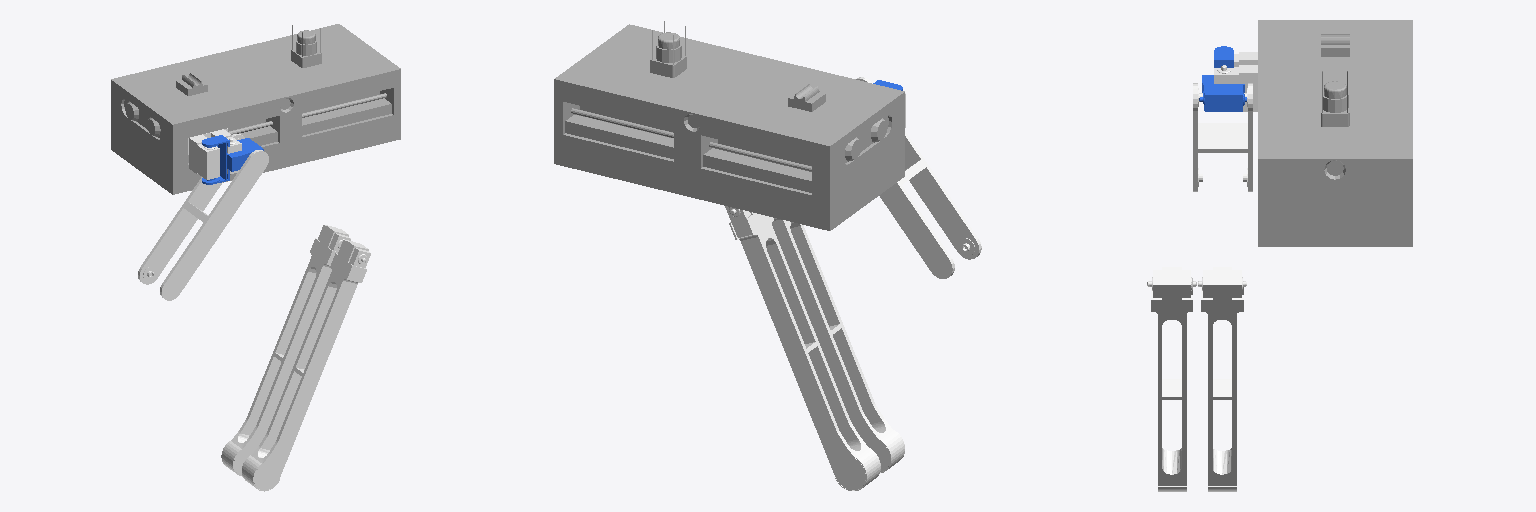
URDF robot description (dog2):
<?xml version="1.0" ?><!-- =================================================================================== --><!-- |    This document was autogenerated by xacro from src/dog2_description/urdf/dog2.urdf.xacro | --><!-- |    EDITING THIS FILE BY HAND IS NOT RECOMMENDED                                 | --><!-- =================================================================================== --><!--
  Dog2 Robot Description (Xacro Source)
  
  This file defines the Dog2 quadruped robot with parameterized joint limits.
  All configuration is in this single file for simplicity.
  
  JOINT LIMITS (Current: continuous, will be converted to revolute):
  - Hip joints (j11, j21, j31, j41): Currently continuous (360° unlimited)
    * Target: ±150° (±2.618 rad) for obstacle crossing
    * 0°: Leg vertical (default stance)
    * +90°: Leg forward (climbing phase)
    * -90°: Leg backward (retraction phase)
    * ±150°: Extreme folding for morphing
  
  - Knee joints (j111, j211, j311, j411): Currently continuous (360° unlimited)
    * Target: ±160° (±2.8 rad) for bidirectional folding
    * 0°: Leg straight (singularity point during morphing)
    * -160°: Elbow configuration (shin behind thigh)
    * +160°: Knee configuration (shin in front of thigh)
    * WARNING: 0° is a singularity - controller must handle carefully
  
  MODIFYING LIMITS:
  1. Edit the properties section at the top of this file
  2. Run: colcon build packages-select dog2_description
  3. Verify: python3 scripts validate_urdf_limits.py urdf/dog2.urdf
  
  OBSTACLE CROSSING PHASES:
  - Phase 1 (Approach): Hip 0° to +45°, knee -90° (elbow)
  - Phase 2 (Climb): Hip +45° to +90°, knee -90° to 0° (straightening)
  - Phase 3 (Morph): Hip +90°, knee 0° to +90° (elbow → knee transition)
  - Phase 4 (Descend): Hip +90° to 0°, knee +90° (knee configuration)
  
  Generated from: dog2.urdf (backup: dog2.urdf.backup_xacro_migration)
  Migration Date: 2026-01-26
--><robot name="dog2"><!-- ============================================ --><!-- SECTION 1: PROPERTY DEFINITIONS              --><!-- ============================================ --><!-- ============================================ --><!-- INERTIA PROPERTIES                           --><!-- ============================================ --><link name="world"/><joint name="world_joint" type="fixed"><parent link="world"/><child link="base_link"/><origin rpy="0 0 0" xyz="0 0 0"/></joint><link name="base_link"><inertial><origin rpy="1.5708 0 0" xyz="1.2272 -0.7470 0.2649"/><mass value="6.0"/><!-- 调整惯性值：按质量比例缩放 (缩放因子 0.306) --><inertia ixx="0.0153" ixy="0.00011" ixz="0" iyy="0.052" iyz="0" izz="0.044"/></inertial><visual><origin rpy="0 0 0" xyz="0 0 0"/><geometry><mesh filename="package://dog2_description/meshes/base_link.STL"/></geometry><material name=""><color rgba="0.752941176470588 0.752941176470588 0.752941176470588 1"/></material></visual><collision><origin rpy="0 0 0" xyz="0 0 0"/><geometry><mesh filename="package://dog2_description/meshes/base_link.STL"/></geometry></collision></link><!-- ============================================ --><!-- SECTION 2: LEG MACRO DEFINITION              --><!-- ============================================ --><!-- ============================================ --><!-- SECTION 3: LEG INSTANTIATIONS                --><!-- ============================================ --><link name="l1"><inertial><origin rpy="0 0 0" xyz="-0.0159999123716776 0.000737036465389251 0.0261570925915838"/><mass value="0.3"/><inertia ixx="0.000107100908138004" ixy="0" ixz="0" iyy="8.38648309010005E-05" iyz="0" izz="7.86994452918461E-05"/></inertial><visual><origin rpy="0 0 0" xyz="0 0 0"/><geometry><mesh filename="package://dog2_description/meshes/l1.STL"/></geometry><material name=""><color rgba="1 1 1 1"/></material></visual><collision><origin rpy="0 0 0" xyz="0 0 0"/><geometry><mesh filename="package://dog2_description/meshes/l1.STL"/></geometry></collision></link><joint name="j1" type="prismatic"><origin rpy="1.5708 0 0" xyz="1.1026 -0.80953 0.2649"/><parent link="base_link"/><child link="l1"/><axis xyz="-1 0 0"/><!-- 修复：速度限制从 1 m/s 提升到 5 m/s，适配 MPC/WBC 快速响应 --><limit effort="100" lower="-0.111" upper="0.111" velocity="5"/></joint><link name="l11"><inertial><origin rpy="0 0 0" xyz="-0.0233000000000003 -0.038305456702832 0.000879463367713051"/><mass value="0.25"/><!-- 修复：惯性值从 1E-10 改为合理值 1E-4，避免物理仿真爆炸 --><inertia ixx="0.0001" ixy="0" ixz="0" iyy="0.0001" iyz="0" izz="0.0001"/></inertial><visual><origin rpy="0 0 0" xyz="0 0 0"/><geometry><mesh filename="package://dog2_description/meshes/l11.STL"/></geometry><material name=""><color rgba="0.266666666666667 0.529411764705882 1 1"/></material></visual><collision><origin rpy="0 0 0" xyz="0 0 0"/><geometry><mesh filename="package://dog2_description/meshes/l11.STL"/></geometry></collision></link><joint name="j11" type="revolute"><origin rpy="0 0 1.5708" xyz="-0.016 0.0199 0.055"/><parent link="l1"/><child link="l11"/><axis xyz="-1 0 0"/><!-- Hip joint: ±150° (±2.618 rad) for obstacle crossing --><limit effort="50" lower="-2.618" upper="2.618" velocity="20"/></joint><link name="l111"><inertial><origin rpy="0 0 0" xyz="0.026 -0.0760041259902766 0.0649874821212071"/><mass value="0.4"/><!-- 调整惯性：保持原始量级但调整比例使其更细长 --><inertia ixx="0.000666" ixy="0" ixz="0" iyy="0.000356" iyz="0.000266" izz="0.000534"/></inertial><visual><origin rpy="0 0 0" xyz="0 0 0"/><geometry><mesh filename="package://dog2_description/meshes/l111.STL"/></geometry><material name=""><color rgba="1 1 1 1"/></material></visual><collision><origin rpy="0 0 0" xyz="0 0 0"/><geometry><mesh filename="package://dog2_description/meshes/l111.STL"/></geometry></collision></link><joint name="j111" type="revolute"><origin rpy="1.5708 1.5708 0" xyz="-0.0233 -0.055 0.0274"/><parent link="l11"/><child link="l111"/><axis xyz="-1 0 0"/><!-- Knee joint: ±160° (±2.8 rad) for bidirectional folding --><limit effort="50" lower="-2.8" upper="2.8" velocity="20"/></joint><link name="l1111"><inertial><origin rpy="0 0 0" xyz="0.0254901816398352 -0.143524743603395 -0.0694046953395906"/><mass value="0.5"/><inertia ixx="0.004517" ixy="0.00000870" ixz="0.00000420" iyy="0.000975" iyz="-0.00176971" izz="0.003666"/></inertial><visual><origin rpy="0 0 0" xyz="0 0 0"/><geometry><mesh filename="package://dog2_description/meshes/l1111.STL"/></geometry><material name=""><color rgba="1 1 1 1"/></material></visual><collision><origin rpy="0 0 0" xyz="0 0 0"/><geometry><mesh filename="package://dog2_description/meshes/l1111.STL"/></geometry></collision></link><joint name="j1111" type="fixed"><origin rpy="0 0 0" xyz="0 -0.15201 0.12997"/><parent link="l111"/><child link="l1111"/></joint><!-- Gazebo friction configuration for foot link --><!-- Prevents "ice skating" bug by adding proper ground friction --><gazebo reference="l1111"><mu1>1.0</mu1><!-- Friction coefficient in primary direction --><mu2>1.0</mu2><!-- Friction coefficient in secondary direction --><kp>1000000.0</kp><!-- Contact stiffness --><kd>100.0</kd><!-- Contact damping --><minDepth>0.001</minDepth><!-- Minimum penetration before contact --><maxVel>0.1</maxVel><!-- Maximum contact correction velocity --><material>Gazebo/Grey</material></gazebo><link name="l2"><inertial><origin rpy="0 0 0" xyz="-0.0159999123716776 0.000737036465389251 0.0261570925915838"/><mass value="0.3"/><inertia ixx="0.000107100908138004" ixy="0" ixz="0" iyy="8.38648309010005E-05" iyz="0" izz="7.86994452918461E-05"/></inertial><visual><origin rpy="0 0 0" xyz="0 0 0"/><geometry><mesh filename="package://dog2_description/meshes/l2.STL"/></geometry><material name=""><color rgba="1 1 1 1"/></material></visual><collision><origin rpy="0 0 0" xyz="0 0 0"/><geometry><mesh filename="package://dog2_description/meshes/l2.STL"/></geometry></collision></link><joint name="j2" type="prismatic"><origin rpy="1.5708 0 0" xyz="1.1026 -0.80953 0.2649"/><parent link="base_link"/><child link="l2"/><axis xyz="-1 0 0"/><!-- 修复：速度限制从 1 m/s 提升到 5 m/s，适配 MPC/WBC 快速响应 --><limit effort="100" lower="-0.111" upper="0.111" velocity="5"/></joint><link name="l21"><inertial><origin rpy="0 0 0" xyz="-0.0233000000000003 -0.038305456702832 0.000879463367713051"/><mass value="0.25"/><!-- 修复：惯性值从 1E-10 改为合理值 1E-4，避免物理仿真爆炸 --><inertia ixx="0.0001" ixy="0" ixz="0" iyy="0.0001" iyz="0" izz="0.0001"/></inertial><visual><origin rpy="0 0 0" xyz="0 0 0"/><geometry><mesh filename="package://dog2_description/meshes/l21.STL"/></geometry><material name=""><color rgba="0.266666666666667 0.529411764705882 1 1"/></material></visual><collision><origin rpy="0 0 0" xyz="0 0 0"/><geometry><mesh filename="package://dog2_description/meshes/l21.STL"/></geometry></collision></link><joint name="j21" type="revolute"><origin rpy="0 0 1.5708" xyz="-0.016 0.0199 0.055"/><parent link="l2"/><child link="l21"/><axis xyz="-1 0 0"/><!-- Hip joint: ±150° (±2.618 rad) for obstacle crossing --><limit effort="50" lower="-2.618" upper="2.618" velocity="20"/></joint><link name="l211"><inertial><origin rpy="0 0 0" xyz="0.026 -0.0760041259902766 0.0649874821212071"/><mass value="0.4"/><!-- 调整惯性：保持原始量级但调整比例使其更细长 --><inertia ixx="0.000666" ixy="0" ixz="0" iyy="0.000356" iyz="0.000266" izz="0.000534"/></inertial><visual><origin rpy="0 0 0" xyz="0 0 0"/><geometry><mesh filename="package://dog2_description/meshes/l211.STL"/></geometry><material name=""><color rgba="1 1 1 1"/></material></visual><collision><origin rpy="0 0 0" xyz="0 0 0"/><geometry><mesh filename="package://dog2_description/meshes/l211.STL"/></geometry></collision></link><joint name="j211" type="revolute"><origin rpy="1.5708 1.5708 0" xyz="-0.0233 -0.055 0.0274"/><parent link="l21"/><child link="l211"/><axis xyz="-1 0 0"/><!-- Knee joint: ±160° (±2.8 rad) for bidirectional folding --><limit effort="50" lower="-2.8" upper="2.8" velocity="20"/></joint><link name="l2111"><inertial><origin rpy="0 0 0" xyz="0.0254901816398352 -0.143524743603395 -0.0694046953395906"/><mass value="0.5"/><inertia ixx="0.004517" ixy="0.00000870" ixz="0.00000420" iyy="0.000975" iyz="-0.00176971" izz="0.003666"/></inertial><visual><origin rpy="0 0 0" xyz="0 0 0"/><geometry><mesh filename="package://dog2_description/meshes/l2111.STL"/></geometry><material name=""><color rgba="1 1 1 1"/></material></visual><collision><origin rpy="0 0 0" xyz="0 0 0"/><geometry><mesh filename="package://dog2_description/meshes/l2111.STL"/></geometry></collision></link><joint name="j2111" type="fixed"><origin rpy="0 0 0" xyz="0 -0.15201 0.12997"/><parent link="l211"/><child link="l2111"/></joint><!-- Gazebo friction configuration for foot link --><!-- Prevents "ice skating" bug by adding proper ground friction --><gazebo reference="l2111"><mu1>1.0</mu1><!-- Friction coefficient in primary direction --><mu2>1.0</mu2><!-- Friction coefficient in secondary direction --><kp>1000000.0</kp><!-- Contact stiffness --><kd>100.0</kd><!-- Contact damping --><minDepth>0.001</minDepth><!-- Minimum penetration before contact --><maxVel>0.1</maxVel><!-- Maximum contact correction velocity --><material>Gazebo/Grey</material></gazebo><link name="l3"><inertial><origin rpy="0 0 0" xyz="-0.0159999123716776 0.000737036465389251 0.0261570925915838"/><mass value="0.3"/><inertia ixx="0.000107100908138004" ixy="0" ixz="0" iyy="8.38648309010005E-05" iyz="0" izz="7.86994452918461E-05"/></inertial><visual><origin rpy="0 0 0" xyz="0 0 0"/><geometry><mesh filename="package://dog2_description/meshes/l3.STL"/></geometry><material name=""><color rgba="1 1 1 1"/></material></visual><collision><origin rpy="0 0 0" xyz="0 0 0"/><geometry><mesh filename="package://dog2_description/meshes/l3.STL"/></geometry></collision></link><joint name="j3" type="prismatic"><origin rpy="1.5708 0 0" xyz="1.1026 -0.80953 0.2649"/><parent link="base_link"/><child link="l3"/><axis xyz="-1 0 0"/><!-- 修复：速度限制从 1 m/s 提升到 5 m/s，适配 MPC/WBC 快速响应 --><limit effort="100" lower="-0.111" upper="0.111" velocity="5"/></joint><link name="l31"><inertial><origin rpy="0 0 0" xyz="-0.0233000000000003 -0.038305456702832 0.000879463367713051"/><mass value="0.25"/><!-- 修复：惯性值从 1E-10 改为合理值 1E-4，避免物理仿真爆炸 --><inertia ixx="0.0001" ixy="0" ixz="0" iyy="0.0001" iyz="0" izz="0.0001"/></inertial><visual><origin rpy="0 0 0" xyz="0 0 0"/><geometry><mesh filename="package://dog2_description/meshes/l31.STL"/></geometry><material name=""><color rgba="0.266666666666667 0.529411764705882 1 1"/></material></visual><collision><origin rpy="0 0 0" xyz="0 0 0"/><geometry><mesh filename="package://dog2_description/meshes/l31.STL"/></geometry></collision></link><joint name="j31" type="revolute"><origin rpy="0 0 1.5708" xyz="-0.016 0.0199 0.055"/><parent link="l3"/><child link="l31"/><axis xyz="-1 0 0"/><!-- Hip joint: ±150° (±2.618 rad) for obstacle crossing --><limit effort="50" lower="-2.618" upper="2.618" velocity="20"/></joint><link name="l311"><inertial><origin rpy="0 0 0" xyz="-0.0259999985992546 -0.0760041263454303 0.0649874816053539"/><mass value="0.4"/><!-- 调整惯性：保持原始量级但调整比例使其更细长 --><inertia ixx="0.000666" ixy="0" ixz="0" iyy="0.000356" iyz="0.000266" izz="0.000534"/></inertial><visual><origin rpy="0 0 0" xyz="0 0 0"/><geometry><mesh filename="package://dog2_description/meshes/l311.STL"/></geometry><material name=""><color rgba="1 1 1 1"/></material></visual><collision><origin rpy="0 0 0" xyz="0 0 0"/><geometry><mesh filename="package://dog2_description/meshes/l311.STL"/></geometry></collision></link><joint name="j311" type="revolute"><origin rpy="1.5708 1.5708 0" xyz="-0.0233 -0.055 0.0274"/><parent link="l31"/><child link="l311"/><axis xyz="-1 0 0"/><!-- Knee joint: ±160° (±2.8 rad) for bidirectional folding --><limit effort="50" lower="-2.8" upper="2.8" velocity="20"/></joint><link name="l3111"><inertial><origin rpy="0 0 0" xyz="-0.0265089672547710 -0.1429895138560395 -0.0691152554666486"/><mass value="0.5"/><inertia ixx="0.004517" ixy="0.00000870" ixz="0.00000420" iyy="0.000975" iyz="-0.00176971" izz="0.003666"/></inertial><visual><origin rpy="0 0 0" xyz="0 0 0"/><geometry><mesh filename="package://dog2_description/meshes/l3111.STL"/></geometry><material name=""><color rgba="1 1 1 1"/></material></visual><collision><origin rpy="0 0 0" xyz="0 0 0"/><geometry><mesh filename="package://dog2_description/meshes/l3111.STL"/></geometry></collision></link><joint name="j3111" type="fixed"><origin rpy="0 0 0" xyz="0 -0.15201 0.12997"/><parent link="l311"/><child link="l3111"/></joint><!-- Gazebo friction configuration for foot link --><!-- Prevents "ice skating" bug by adding proper ground friction --><gazebo reference="l3111"><mu1>1.0</mu1><!-- Friction coefficient in primary direction --><mu2>1.0</mu2><!-- Friction coefficient in secondary direction --><kp>1000000.0</kp><!-- Contact stiffness --><kd>100.0</kd><!-- Contact damping --><minDepth>0.001</minDepth><!-- Minimum penetration before contact --><maxVel>0.1</maxVel><!-- Maximum contact correction velocity --><material>Gazebo/Grey</material></gazebo><link name="l4"><inertial><origin rpy="0 0 0" xyz="-0.0159999123716776 0.000737036465389251 0.0261570925915838"/><mass value="0.3"/><inertia ixx="0.000107100908138004" ixy="0" ixz="0" iyy="8.38648309010005E-05" iyz="0" izz="7.86994452918461E-05"/></inertial><visual><origin rpy="0 0 0" xyz="0 0 0"/><geometry><mesh filename="package://dog2_description/meshes/l4.STL"/></geometry><material name=""><color rgba="1 1 1 1"/></material></visual><collision><origin rpy="0 0 0" xyz="0 0 0"/><geometry><mesh filename="package://dog2_description/meshes/l4.STL"/></geometry></collision></link><joint name="j4" type="prismatic"><origin rpy="1.5708 0 0" xyz="1.1026 -0.80953 0.2649"/><parent link="base_link"/><child link="l4"/><axis xyz="-1 0 0"/><!-- 修复：速度限制从 1 m/s 提升到 5 m/s，适配 MPC/WBC 快速响应 --><limit effort="100" lower="-0.111" upper="0.111" velocity="5"/></joint><link name="l41"><inertial><origin rpy="0 0 0" xyz="-0.0233000000000003 -0.038305456702832 0.000879463367713051"/><mass value="0.25"/><!-- 修复：惯性值从 1E-10 改为合理值 1E-4，避免物理仿真爆炸 --><inertia ixx="0.0001" ixy="0" ixz="0" iyy="0.0001" iyz="0" izz="0.0001"/></inertial><visual><origin rpy="0 0 0" xyz="0 0 0"/><geometry><mesh filename="package://dog2_description/meshes/l41.STL"/></geometry><material name=""><color rgba="0.266666666666667 0.529411764705882 1 1"/></material></visual><collision><origin rpy="0 0 0" xyz="0 0 0"/><geometry><mesh filename="package://dog2_description/meshes/l41.STL"/></geometry></collision></link><joint name="j41" type="revolute"><origin rpy="0 0 1.5708" xyz="-0.016 0.0199 0.055"/><parent link="l4"/><child link="l41"/><axis xyz="-1 0 0"/><!-- Hip joint: ±150° (±2.618 rad) for obstacle crossing --><limit effort="50" lower="-2.618" upper="2.618" velocity="20"/></joint><link name="l411"><inertial><origin rpy="0 0 0" xyz="0.026 -0.0760041259902766 0.0649874821212071"/><mass value="0.4"/><!-- 调整惯性：保持原始量级但调整比例使其更细长 --><inertia ixx="0.000666" ixy="0" ixz="0" iyy="0.000356" iyz="0.000266" izz="0.000534"/></inertial><visual><origin rpy="0 0 0" xyz="0 0 0"/><geometry><mesh filename="package://dog2_description/meshes/l411.STL"/></geometry><material name=""><color rgba="1 1 1 1"/></material></visual><collision><origin rpy="0 0 0" xyz="0 0 0"/><geometry><mesh filename="package://dog2_description/meshes/l411.STL"/></geometry></collision></link><joint name="j411" type="revolute"><origin rpy="1.5708 1.5708 0" xyz="-0.0233 -0.055 0.0274"/><parent link="l41"/><child link="l411"/><axis xyz="-1 0 0"/><!-- Knee joint: ±160° (±2.8 rad) for bidirectional folding --><limit effort="50" lower="-2.8" upper="2.8" velocity="20"/></joint><link name="l4111"><inertial><origin rpy="0 0 0" xyz="-0.0265089672547710 -0.1429895138560395 -0.0691152554666486"/><mass value="0.5"/><inertia ixx="0.004517" ixy="0.00000870" ixz="0.00000420" iyy="0.000975" iyz="-0.00176971" izz="0.003666"/></inertial><visual><origin rpy="0 0 0" xyz="0 0 0"/><geometry><mesh filename="package://dog2_description/meshes/l4111.STL"/></geometry><material name=""><color rgba="1 1 1 1"/></material></visual><collision><origin rpy="0 0 0" xyz="0 0 0"/><geometry><mesh filename="package://dog2_description/meshes/l4111.STL"/></geometry></collision></link><joint name="j4111" type="fixed"><origin rpy="0 0 0" xyz="0 -0.15201 0.12997"/><parent link="l411"/><child link="l4111"/></joint><!-- Gazebo friction configuration for foot link --><!-- Prevents "ice skating" bug by adding proper ground friction --><gazebo reference="l4111"><mu1>1.0</mu1><!-- Friction coefficient in primary direction --><mu2>1.0</mu2><!-- Friction coefficient in secondary direction --><kp>1000000.0</kp><!-- Contact stiffness --><kd>100.0</kd><!-- Contact damping --><minDepth>0.001</minDepth><!-- Minimum penetration before contact --><maxVel>0.1</maxVel><!-- Maximum contact correction velocity --><material>Gazebo/Grey</material></gazebo><!-- ============================================ --><!-- SECTION 4: ROS 2 CONTROL & GAZEBO            --><!-- ============================================ --><ros2_control name="GazeboSystem" type="system"><hardware><plugin>gazebo_ros2_control/GazeboSystem</plugin></hardware><!-- Leg 1 Joints --><joint name="j1"><command_interface name="effort"/><command_interface name="position"/><state_interface name="position"/><state_interface name="velocity"/><state_interface name="effort"/></joint><joint name="j11"><command_interface name="effort"/><command_interface name="position"/><state_interface name="position"/><state_interface name="velocity"/><state_interface name="effort"/></joint><joint name="j111"><command_interface name="effort"/><command_interface name="position"/><state_interface name="position"/><state_interface name="velocity"/><state_interface name="effort"/></joint><!-- Leg 2 Joints --><joint name="j2"><command_interface name="effort"/><command_interface name="position"/><state_interface name="position"/><state_interface name="velocity"/><state_interface name="effort"/></joint><joint name="j21"><command_interface name="effort"/><command_interface name="position"/><state_interface name="position"/><state_interface name="velocity"/><state_interface name="effort"/></joint><joint name="j211"><command_interface name="effort"/><command_interface name="position"/><state_interface name="position"/><state_interface name="velocity"/><state_interface name="effort"/></joint><!-- Leg 3 Joints --><joint name="j3"><command_interface name="effort"/><command_interface name="position"/><state_interface name="position"/><state_interface name="velocity"/><state_interface name="effort"/></joint><joint name="j31"><command_interface name="effort"/><command_interface name="position"/><state_interface name="position"/><state_interface name="velocity"/><state_interface name="effort"/></joint><joint name="j311"><command_interface name="effort"/><command_interface name="position"/><state_interface name="position"/><state_interface name="velocity"/><state_interface name="effort"/></joint><!-- Leg 4 Joints --><joint name="j4"><command_interface name="effort"/><command_interface name="position"/><state_interface name="position"/><state_interface name="velocity"/><state_interface name="effort"/></joint><joint name="j41"><command_interface name="effort"/><command_interface name="position"/><state_interface name="position"/><state_interface name="velocity"/><state_interface name="effort"/></joint><joint name="j411"><command_interface name="effort"/><command_interface name="position"/><state_interface name="position"/><state_interface name="velocity"/><state_interface name="effort"/></joint></ros2_control><!-- Gazebo ROS 2 Control Plugin --><gazebo><plugin filename="libgazebo_ros2_control.so" name="gazebo_ros2_control"><parameters>/home/dell/aperfect/carbot_ws/install/dog2_description/share/dog2_description/config/ros2_controllers.yaml</parameters><robot_param>robot_description</robot_param><robot_param_node>robot_state_publisher</robot_param_node></plugin></gazebo></robot>

--- Facts derived from the render (not from the file) ---
3 views of the same robot in one strip: view 1: azimuth 30°, elevation 25°; view 2: azimuth 150°, elevation 25°; view 3: azimuth 270°, elevation 25° (orthographic).
Robot: dog2 — 18 links, 17 joints (8 revolute, 4 prismatic, 5 fixed); root link world; default pose: all joints at 0.
Links seen in each view (by area): view 1: base_link, l3111, l1111, l411, l1, l11; view 2: base_link, l1111, l3111, l411; view 3: base_link, l1111, l3111, l411, l21, l2.
Boxes of the visible links, x1,y1,x2,y2 form: base_link: [111, 24, 400, 194]; l3111: [242, 239, 370, 491]; l1111: [221, 225, 350, 476]; l411: [138, 134, 268, 300]; l1: [188, 133, 219, 179]; l11: [202, 136, 260, 184]; base_link: [554, 21, 904, 230]; l1111: [725, 206, 880, 490]; l3111: [772, 218, 904, 472]; l411: [856, 77, 981, 278]; base_link: [1258, 20, 1412, 246]; l1111: [1198, 267, 1246, 491]; l3111: [1147, 267, 1196, 491]; l411: [1193, 83, 1252, 191]; l21: [1199, 49, 1246, 111]; l2: [1214, 65, 1257, 111].
Bounding box of the posed robot: 0.3955 × 0.2742 × 0.5484 m (x, y, z).
Meshes: 17 distinct files referenced, 13 mesh visuals loaded (13 binary STL); not drawn: 4 (reference not matched to a file when rendering).
